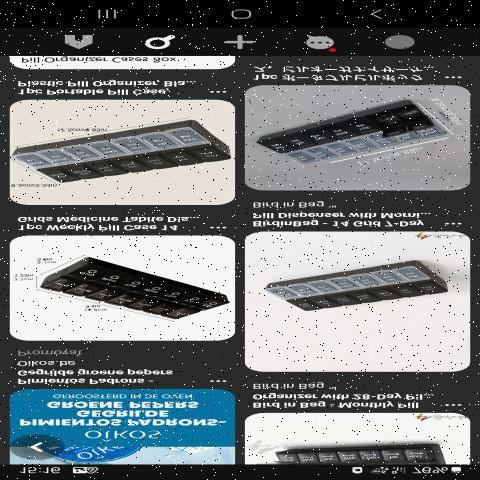PillBox: (17, 109, 232, 198), (28, 249, 228, 338), (253, 258, 456, 332), (253, 106, 461, 175)
